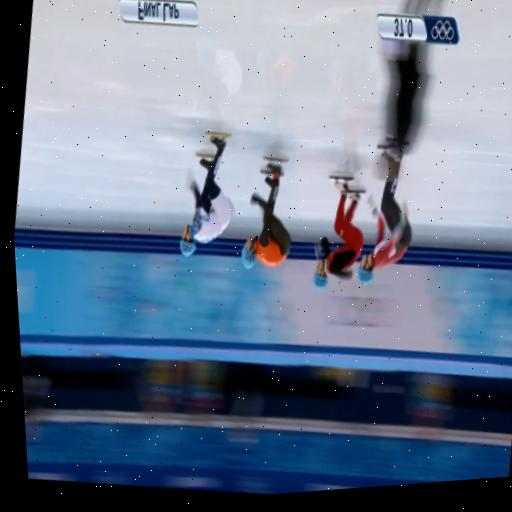Skater: (358, 146, 412, 283), (180, 132, 233, 255), (314, 175, 364, 289), (241, 159, 290, 267)
